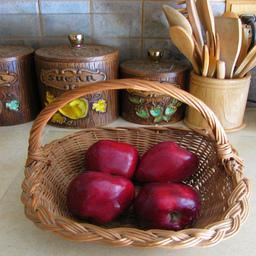apple: (64, 169, 136, 223), (136, 182, 200, 228), (137, 140, 197, 184), (85, 138, 139, 179)
